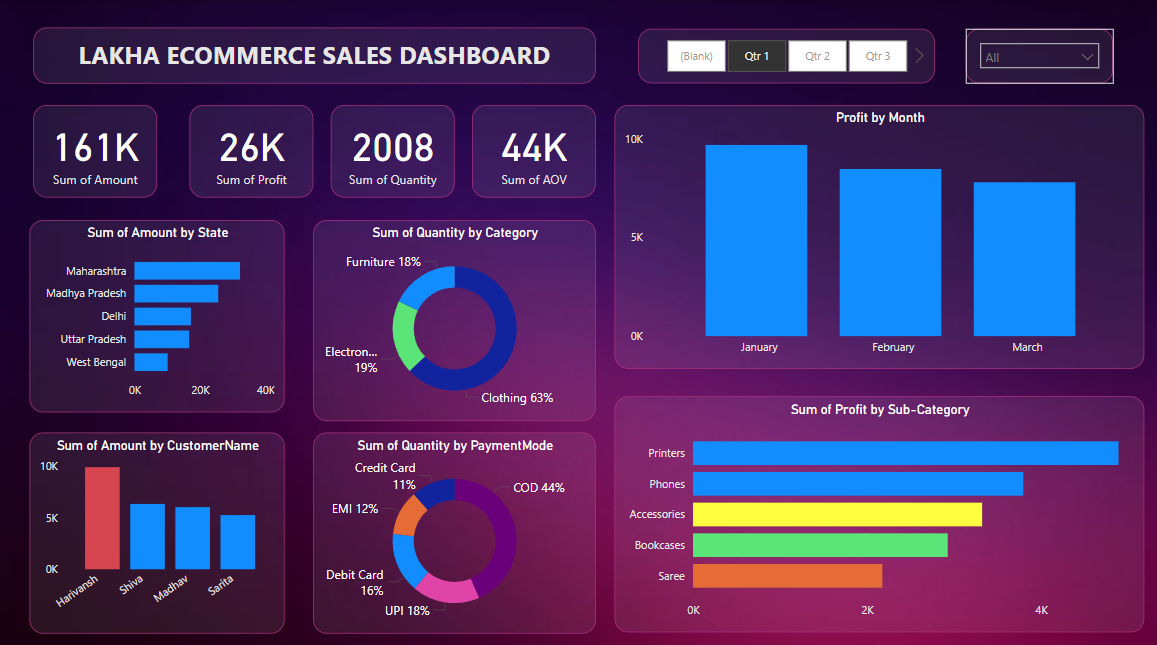

This screenshot's page, from the dashboard's own definition file:
{"tool":"powerbi","page":{"name":"Page 1","canvas":[1280,720],"ordinal":0},"visuals":[{"type":"textbox","box":[39.8,30.2,617.5,61.7],"z":0},{"type":"columnChart","title":"Profit by Month","fields":{"Category":["Orders.Order Date.Variation.Date Hierarchy.Month"],"Y":["Sum(Details.Profit)"]},"box":[677.9,115.3,581.8,289.5],"z":1000},{"type":"barChart","fields":{"Category":["Details.Sub-Category"],"Y":["Sum(Details.Profit)"]},"box":[677.9,435,581.8,259.3],"z":2000},{"type":"donutChart","fields":{"Category":["Details.Category"],"Y":["Sum(Details.Quantity)"]},"box":[347.2,241.5,310.1,220.9],"z":3000},{"type":"donutChart","fields":{"Y":["Sum(Details.Quantity)"],"Category":["Details.PaymentMode"]},"box":[347.2,474.8,310.1,220.9],"z":4000},{"type":"card","fields":{"Values":["Sum(Details.Amount)"]},"box":[39.8,115.3,135.8,101.5],"z":5000},{"type":"card","fields":{"Values":["Sum(Details.Quantity)"]},"box":[366.4,115.3,135.8,101.5],"z":6000},{"type":"card","fields":{"Values":["Sum(Details.Profit)"]},"box":[211.3,115.3,135.8,101.5],"z":7000},{"type":"card","fields":{"Values":["Sum(Details.AOV)"]},"box":[521.4,115.3,135.8,101.5],"z":8000},{"type":"barChart","fields":{"Category":["Orders.State"],"Y":["Sum(Details.Amount)"]},"box":[35.7,241.5,279.9,211.3],"z":9000},{"type":"columnChart","fields":{"Category":["Orders.CustomerName"],"Y":["Sum(Details.Amount)"]},"box":[35.7,474.8,279.9,220.9],"z":10000},{"type":"slicer","fields":{"Values":["Orders.Order Date.Variation.Date Hierarchy.Quarter"]},"box":[704.3,31.6,325.2,60.4],"z":11000},{"type":"slicer","fields":{"Values":["Orders.State"]},"box":[1063.8,31.6,161.9,60.4],"z":12000}]}

Visuals, with their boxes in screenshot pixels (x1, y1, x2, y2), scaled from the page's 1280x720 canvas onto the 1157x645 screenshot:
textbox: Rect(36, 27, 594, 82)
"Profit by Month" columnChart: Rect(613, 103, 1139, 363)
barChart - Details.Sub-Category x Sum(Details.Profit): Rect(613, 390, 1139, 622)
donutChart - Details.Category x Sum(Details.Quantity): Rect(314, 216, 594, 414)
donutChart - Sum(Details.Quantity) x Details.PaymentMode: Rect(314, 425, 594, 623)
card - Sum(Details.Amount): Rect(36, 103, 159, 194)
card - Sum(Details.Quantity): Rect(331, 103, 454, 194)
card - Sum(Details.Profit): Rect(191, 103, 314, 194)
card - Sum(Details.AOV): Rect(471, 103, 594, 194)
barChart - Orders.State x Sum(Details.Amount): Rect(32, 216, 285, 406)
columnChart - Orders.CustomerName x Sum(Details.Amount): Rect(32, 425, 285, 623)
slicer - Orders.Order Date.Variation.Date Hierarchy.Quarter: Rect(637, 28, 931, 82)
slicer - Orders.State: Rect(962, 28, 1108, 82)
